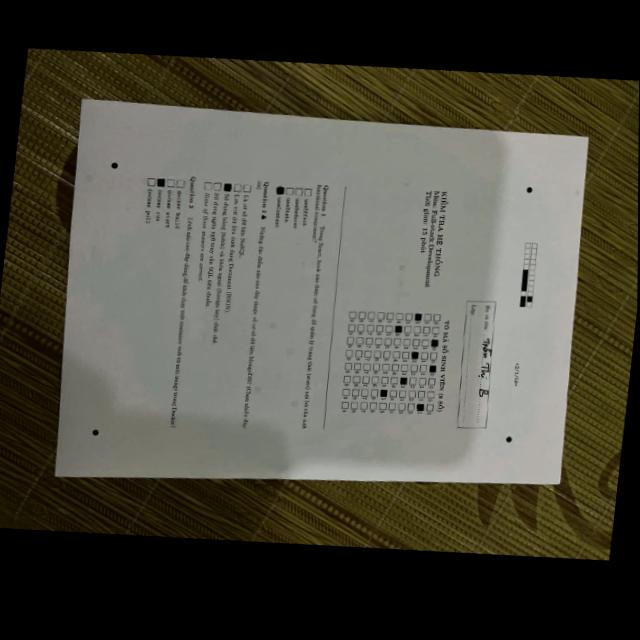Markers: (109, 160, 117, 169), (525, 185, 532, 193), (90, 428, 98, 435), (505, 435, 512, 442)
